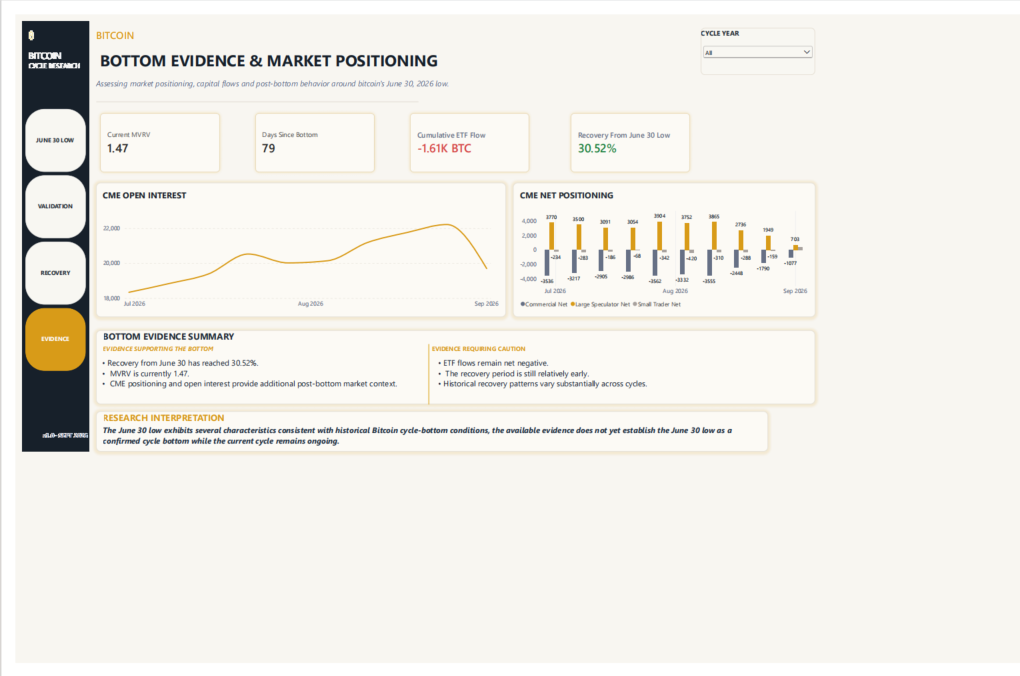

What the dashboard file says about the page in this screenshot:
{"tool":"powerbi","page":{"name":"EVIDENCE","canvas":[1920,1080],"ordinal":3},"visuals":[{"type":"shape","box":[16,16,160,1024],"z":0},{"type":"textbox","box":[192,32,864,176],"z":1000},{"type":"textbox","box":[32,32,144,112],"z":2000},{"type":"shape","box":[192,192,768,32],"z":3000},{"type":"cardVisual","fields":{"Data":["Measures Table.Current MVRV"]},"box":[192,224,304,160],"z":4000},{"type":"cardVisual","fields":{"Data":["Measures Table.Recovery From June 30 Low"]},"box":[1312,224,304,160],"z":5000},{"type":"cardVisual","fields":{"Data":["Measures Table.Days Since Bottom"]},"box":[560,224,304,160],"z":6000},{"type":"cardVisual","fields":{"Data":["Measures Table.Cumulative ETF Flow"]},"box":[928,224,304,160],"z":7000},{"type":"lineChart","title":"CME OPEN INTEREST","fields":{"Category":["CME OI Weekly.Date"],"Y":["Max(CME OI Weekly.Open Interest)"]},"box":[192,400,976,320],"z":8000},{"type":"clusteredColumnChart","title":"CME NET POSITIONING","fields":{"Category":["CME OI Weekly.Date"],"Y":["Max(CME OI Weekly.Commercial Net)","Max(CME OI Weekly.Large Speculator Net)","Max(CME OI Weekly.Small Trader Net)"]},"box":[1184,400,720,320],"z":9000},{"type":"slicer","title":"CYCLE YEAR","fields":{"Values":["Dim Cycle.Cycle Year"]},"box":[1632,32,272,112],"z":10000},{"type":"shape","box":[192,752,1712,176],"z":11000},{"type":"textbox","box":[208,752,320,48],"z":13000},{"type":"textbox","box":[208,784,272,32],"z":14000},{"type":"textbox","box":[192,816,752,96],"z":15000},{"type":"shape","box":[976,784,16,144],"z":16000},{"type":"textbox","box":[992,816,736,96],"z":17000},{"type":"textbox","box":[992,784,304,32],"z":18000},{"type":"shape","box":[192,944,1600,96],"z":19000},{"type":"textbox","box":[208,944,304,32],"z":20000},{"type":"textbox","box":[208.6,975.7,1535.7,64.3],"z":21000},{"type":"pageNavigator","box":[22.9,224.3,144.3,624.3],"z":21001},{"type":"textbox","box":[64,992,112,48],"z":21002}]}

Visuals, with their boxes on the page's 1920x1080 design canvas (x1, y1, x2, y2). These are canvas units, not pixel positions in the 1020x676 screenshot, which may show the page scaled, cropped or inside an application window:
shape: (left=16, top=16, right=176, bottom=1040)
textbox: (left=192, top=32, right=1056, bottom=208)
textbox: (left=32, top=32, right=176, bottom=144)
shape: (left=192, top=192, right=960, bottom=224)
cardVisual - Measures Table.Current MVRV: (left=192, top=224, right=496, bottom=384)
cardVisual - Measures Table.Recovery From June 30 Low: (left=1312, top=224, right=1616, bottom=384)
cardVisual - Measures Table.Days Since Bottom: (left=560, top=224, right=864, bottom=384)
cardVisual - Measures Table.Cumulative ETF Flow: (left=928, top=224, right=1232, bottom=384)
"CME OPEN INTEREST" lineChart: (left=192, top=400, right=1168, bottom=720)
"CME NET POSITIONING" clusteredColumnChart: (left=1184, top=400, right=1904, bottom=720)
"CYCLE YEAR" slicer: (left=1632, top=32, right=1904, bottom=144)
shape: (left=192, top=752, right=1904, bottom=928)
textbox: (left=208, top=752, right=528, bottom=800)
textbox: (left=208, top=784, right=480, bottom=816)
textbox: (left=192, top=816, right=944, bottom=912)
shape: (left=976, top=784, right=992, bottom=928)
textbox: (left=992, top=816, right=1728, bottom=912)
textbox: (left=992, top=784, right=1296, bottom=816)
shape: (left=192, top=944, right=1792, bottom=1040)
textbox: (left=208, top=944, right=512, bottom=976)
textbox: (left=209, top=976, right=1744, bottom=1040)
pageNavigator: (left=23, top=224, right=167, bottom=849)
textbox: (left=64, top=992, right=176, bottom=1040)
